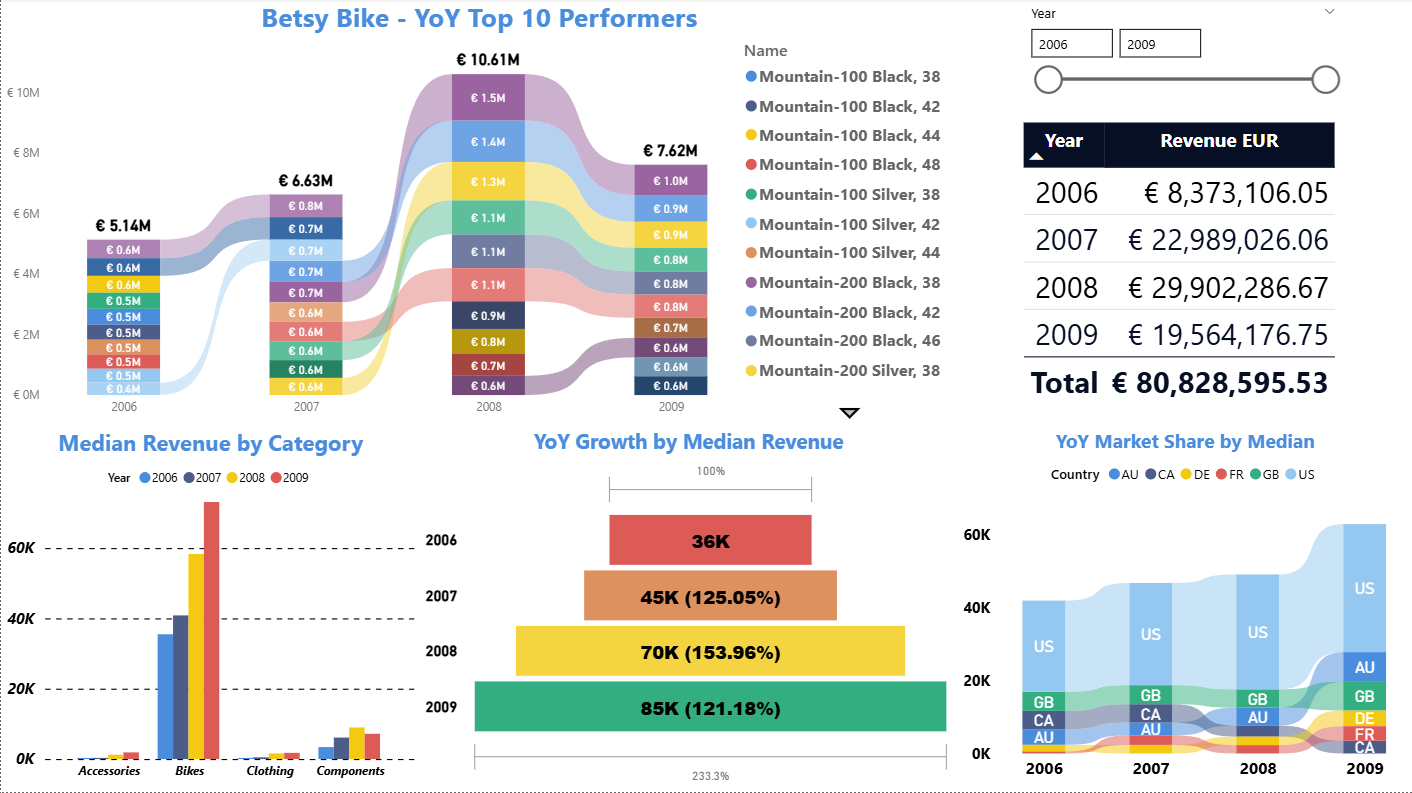

This screenshot's page, from the dashboard's own definition file:
{"tool":"powerbi","page":{"name":"Main Overview","canvas":[1280,720],"ordinal":0},"visuals":[{"type":"ribbonChart","title":"Betsy Bike - YoY Top 10 Performers","fields":{"Category":["SalesOrderDetail.DueDate.Variation.Date Hierarchy.Year"],"Y":["_Measures.Revenue EUR"],"Series":["Product.Name"]},"box":[0,0,867.6,389.1],"z":0},{"type":"clusteredColumnChart","title":"Median Revenue by Category","fields":{"Category":["ProductCategory.Name"],"Series":["SalesOrderDetail.DueDate.Variation.Date Hierarchy.Year"],"Y":["_Measures.Median Revenue EUR","select"]},"box":[0,389.1,380.3,329.7],"z":1000},{"type":"funnel","title":"YoY Growth by Median Revenue","fields":{"Category":["SalesOrderDetail.DueDate.Variation.Date Hierarchy.Year"],"Y":["_Measures.Median Revenue EUR per Sales Day"]},"box":[380.3,389.1,487.3,330.7],"z":2000},{"type":"slicer","title":"Total - Top Product — Change over Time","fields":{"Values":["SalesOrderDetail.DueDate.Variation.Date Hierarchy.Year"]},"box":[921.3,0,301.1,107.9],"z":3000},{"type":"ribbonChart","title":"YoY Market Share by Median","fields":{"Category":["SalesOrderDetail.DueDate.Variation.Date Hierarchy.Year"],"Series":["SalesTerritory.CountryRegionCode"],"Y":["_Measures.Median Revenue EUR per Sales Day"]},"box":[867.4,389.3,412.6,330],"z":4000},{"type":"tableEx","fields":{"Values":["SalesOrderDetail.DueDate.Variation.Date Hierarchy.Year","_Measures.Revenue EUR"]},"box":[921.4,107.9,301.5,281.4],"z":5000}]}

Visuals, with their boxes in screenshot pixels (x1, y1, x2, y2), scaled from the page's 1280x720 canvas onto the 1412x793 screenshot:
"Betsy Bike - YoY Top 10 Performers" ribbonChart: box(0, 0, 957, 429)
"Median Revenue by Category" clusteredColumnChart: box(0, 429, 420, 792)
"YoY Growth by Median Revenue" funnel: box(420, 429, 957, 792)
"Total - Top Product — Change over Time" slicer: box(1016, 0, 1348, 119)
"YoY Market Share by Median" ribbonChart: box(957, 429, 1411, 792)
tableEx - SalesOrderDetail.DueDate.Variation.Date Hierarchy.Year x _Measures.Revenue EUR: box(1016, 119, 1349, 429)
